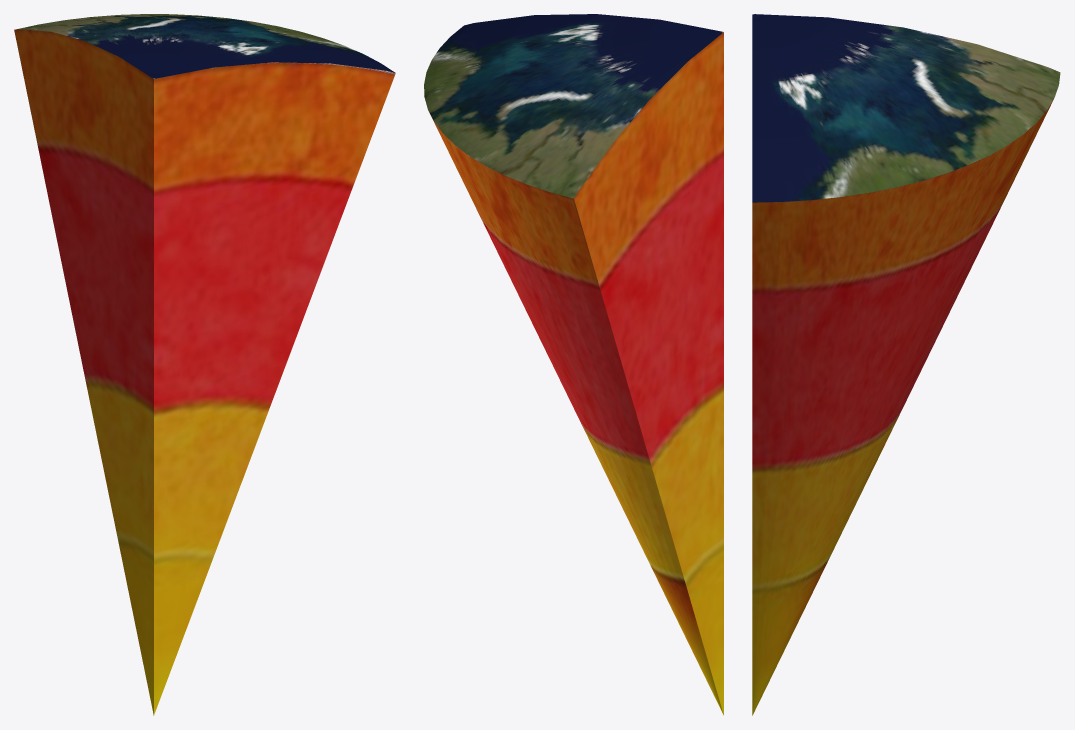
The model's file is 6_Slice_high.glb.
3 renders of one model, left to right at view 1: azimuth 30°, elevation 25°; view 2: azimuth 150°, elevation 25°; view 3: azimuth 270°, elevation 25°, orthographic. The views are drawn at different scales.
Parts seen in each view (by area): view 1: Slice_high; view 2: Slice_high; view 3: Slice_high.
Part boxes in pixels (bbox=[...]): Slice_high: bbox=[14, 14, 395, 715]; Slice_high: bbox=[424, 14, 723, 715]; Slice_high: bbox=[752, 14, 1060, 715].
Bounding box in the file's own units: 1.99 × 5 × 1.99.
Materials: 2 (2 with a texture image).
